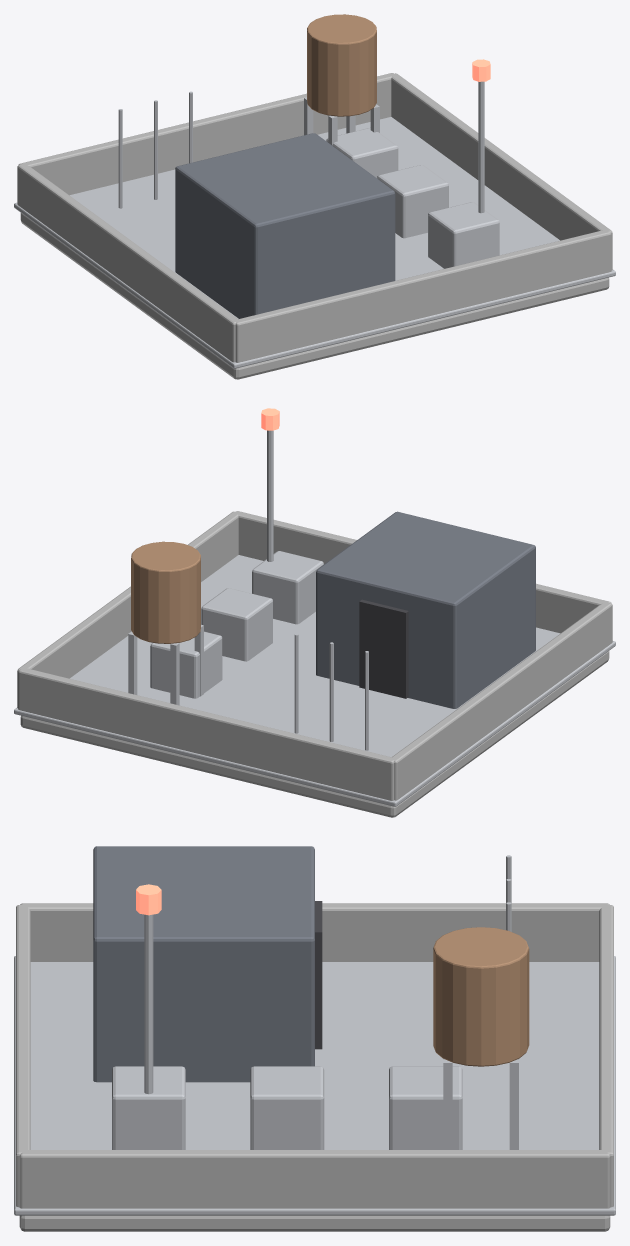
Rendered from roof_3x3_mech_office.glb.
3 renders of one model, top to bottom at view 1: azimuth 30°, elevation 25°; view 2: azimuth 150°, elevation 25°; view 3: azimuth 270°, elevation 25°, orthographic. The views are drawn at different scales.
Parts seen in each view (by area): view 1: ext_parapet, ext_penthouse, int_slab_edge, ext_ac, int_slab, ext_tank, ext_tank_legs, ext_mast, ext_ant0; view 2: ext_parapet, ext_penthouse, int_slab_edge, ext_ac, int_slab, ext_tank, ext_penthouse_door, ext_tank_legs, ext_mast; view 3: ext_parapet, int_slab_edge, ext_penthouse, ext_ac, ext_tank, int_slab, ext_mast, ext_tank_legs, ext_penthouse_door, ext_beacon.
Boxes of the visible parts, <box> form: ext_parapet: <box>17,73,612,362</box>; ext_penthouse: <box>175,133,395,318</box>; int_slab_edge: <box>14,117,615,368</box>; ext_ac: <box>326,127,499,268</box>; int_slab: <box>20,213,609,379</box>; ext_tank: <box>307,14,376,116</box>; ext_tank_legs: <box>304,97,379,145</box>; ext_mast: <box>478,81,484,213</box>; ext_ant0: <box>118,109,122,208</box>; ext_parapet: <box>17,511,612,800</box>; ext_penthouse: <box>316,511,535,708</box>; int_slab_edge: <box>14,555,615,806</box>; ext_ac: <box>150,551,323,698</box>; int_slab: <box>20,651,609,817</box>; ext_tank: <box>131,541,200,643</box>; ext_penthouse_door: <box>359,599,408,698</box>; ext_tank_legs: <box>128,624,203,705</box>; ext_mast: <box>267,430,273,561</box>; ext_parapet: <box>16,903,613,1208</box>; int_slab_edge: <box>14,956,615,1215</box>; ext_penthouse: <box>93,846,314,1082</box>; ext_ac: <box>112,1066,462,1149</box>; ext_tank: <box>433,927,529,1066</box>; int_slab: <box>19,1215,610,1231</box>; ext_mast: <box>144,914,153,1094</box>; ext_tank_legs: <box>443,1059,518,1149</box>; ext_penthouse_door: <box>315,901,322,1049</box>; ext_beacon: <box>136,884,161,915</box>.
Bounding box in the file's own units: 3.26 × 1.73 × 3.26.
